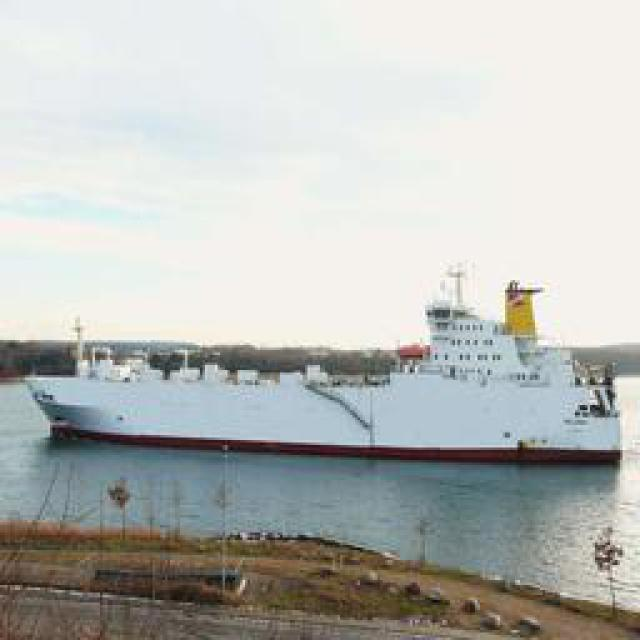Ship: (30, 270, 615, 475)
